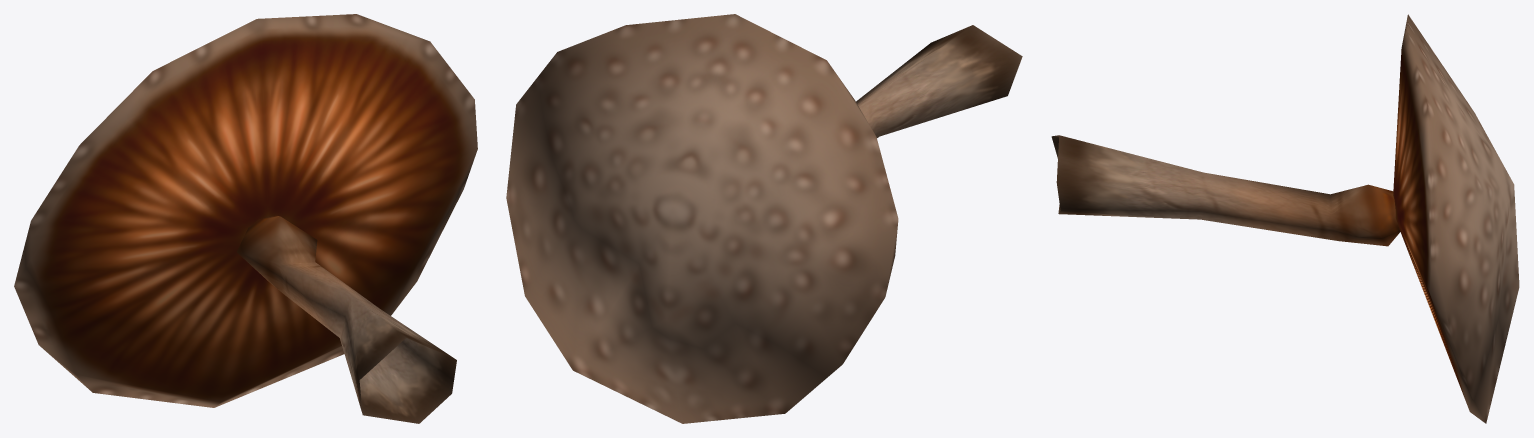
The model's file is MEP_GiantShroom_02.fbx.
3 views of the same model, side by side, from view 1: azimuth 30°, elevation 25°; view 2: azimuth 150°, elevation 25°; view 3: azimuth 270°, elevation 25° (orthographic). The views are drawn at different scales.
Visible parts, largest first — view 1: MEP_GiantShroom_02; view 2: MEP_GiantShroom_02; view 3: MEP_GiantShroom_02.
Part boxes in pixels (x1=…): MEP_GiantShroom_02: x1=14, y1=14, x2=477, y2=423; MEP_GiantShroom_02: x1=506, y1=14, x2=1022, y2=423; MEP_GiantShroom_02: x1=1051, y1=14, x2=1519, y2=423.
Bounding box in the file's own units: 3.14 × 2.92 × 3.47.
